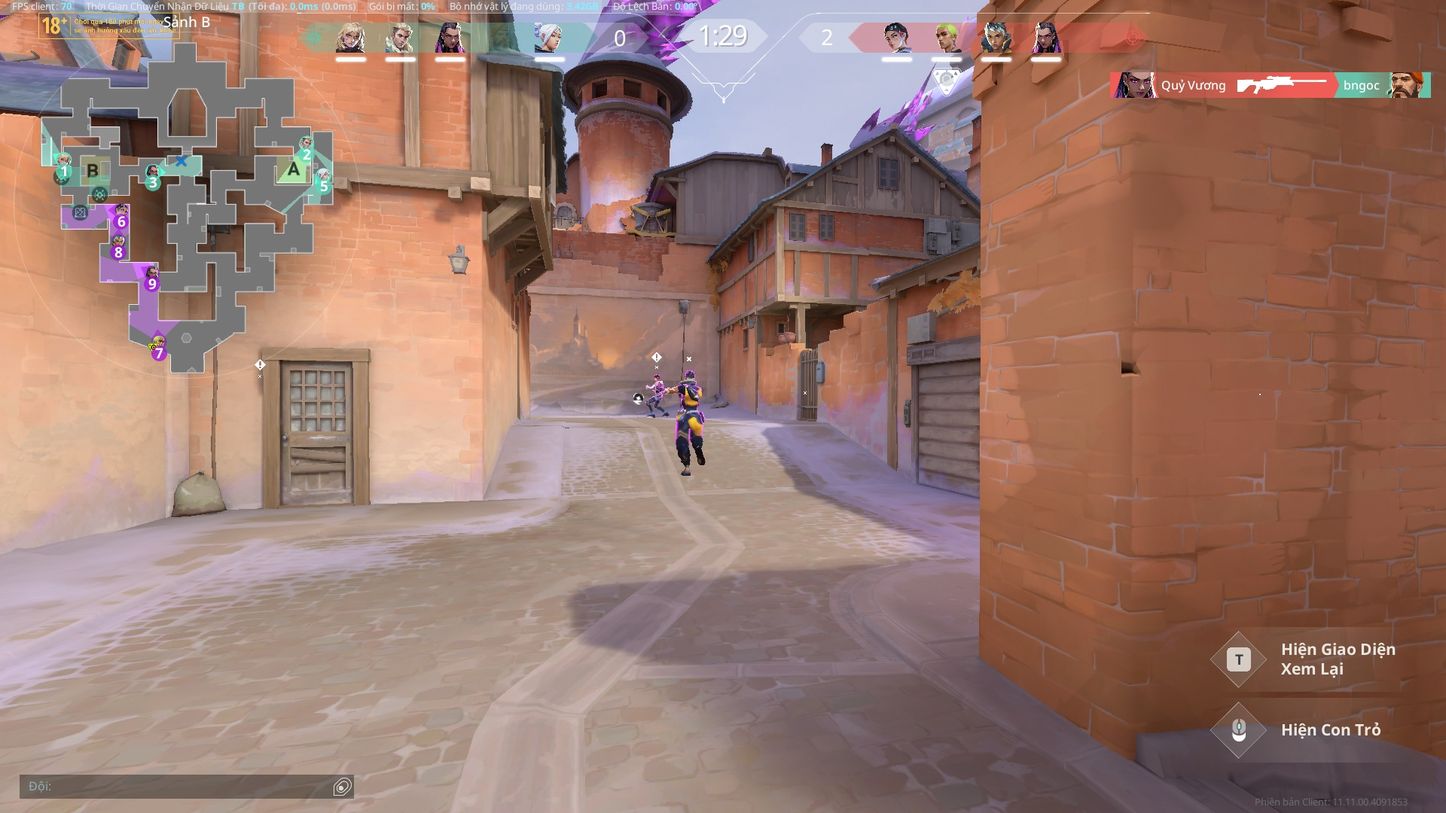body: (678, 380, 700, 410), (652, 381, 664, 397)
head: (683, 370, 696, 382), (653, 373, 664, 380)
